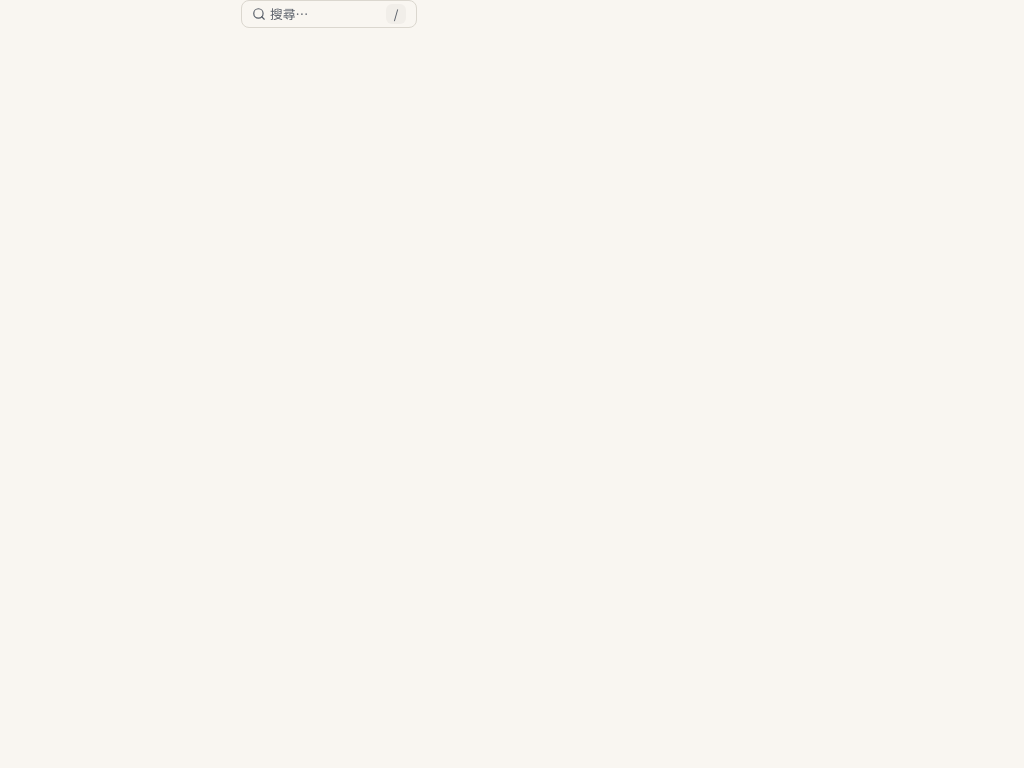
it: SearchCommand › 按 / 開啟面板並聚焦輸入框，打字後直接列出結果
This screenshot has width=1024, height=768.
Step 1. Type keys "/"
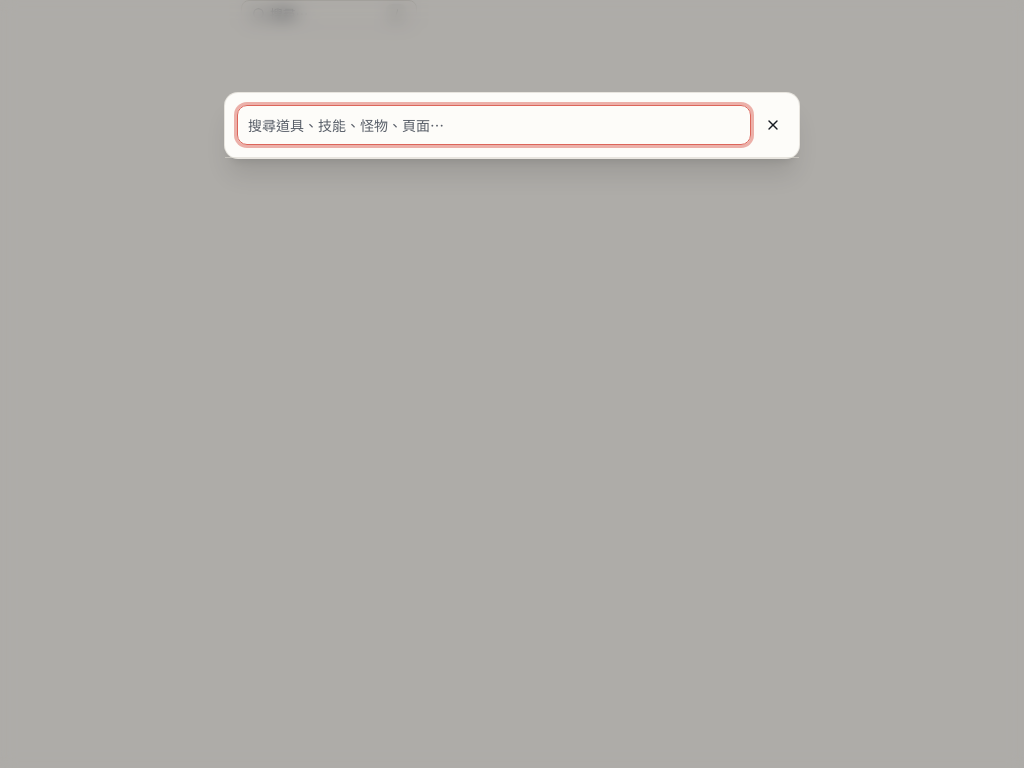
Step 2. Type "血風" into the dropdown named "搜尋全站" → (490, 125), box [238, 109, 742, 141]
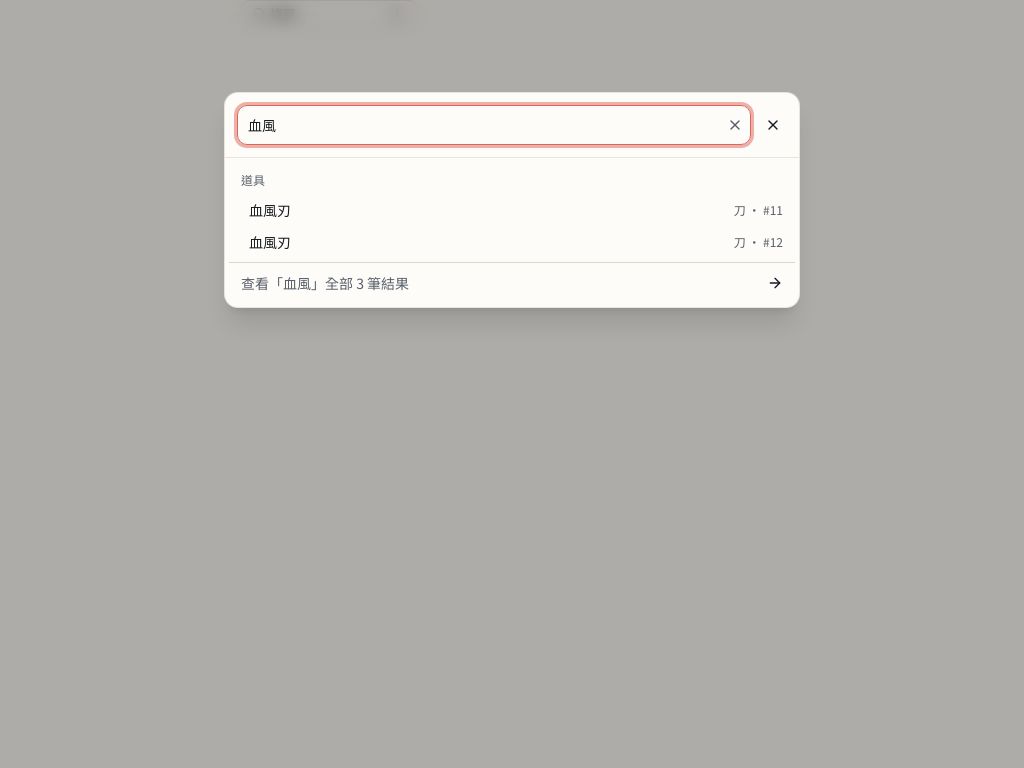
Expected: the text "刀 · #12" is shown, [734, 234, 783, 250]
